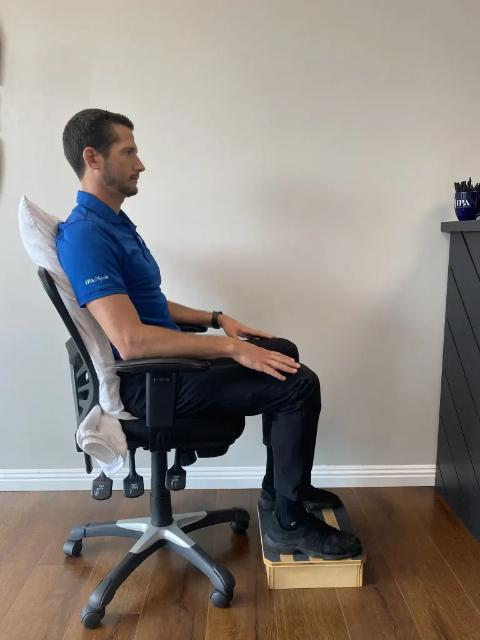good-pose: (0, 0, 480, 640)
